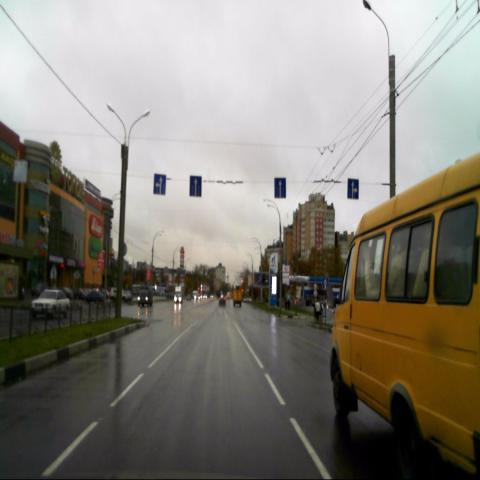5_15_2: (190, 176, 201, 198)
